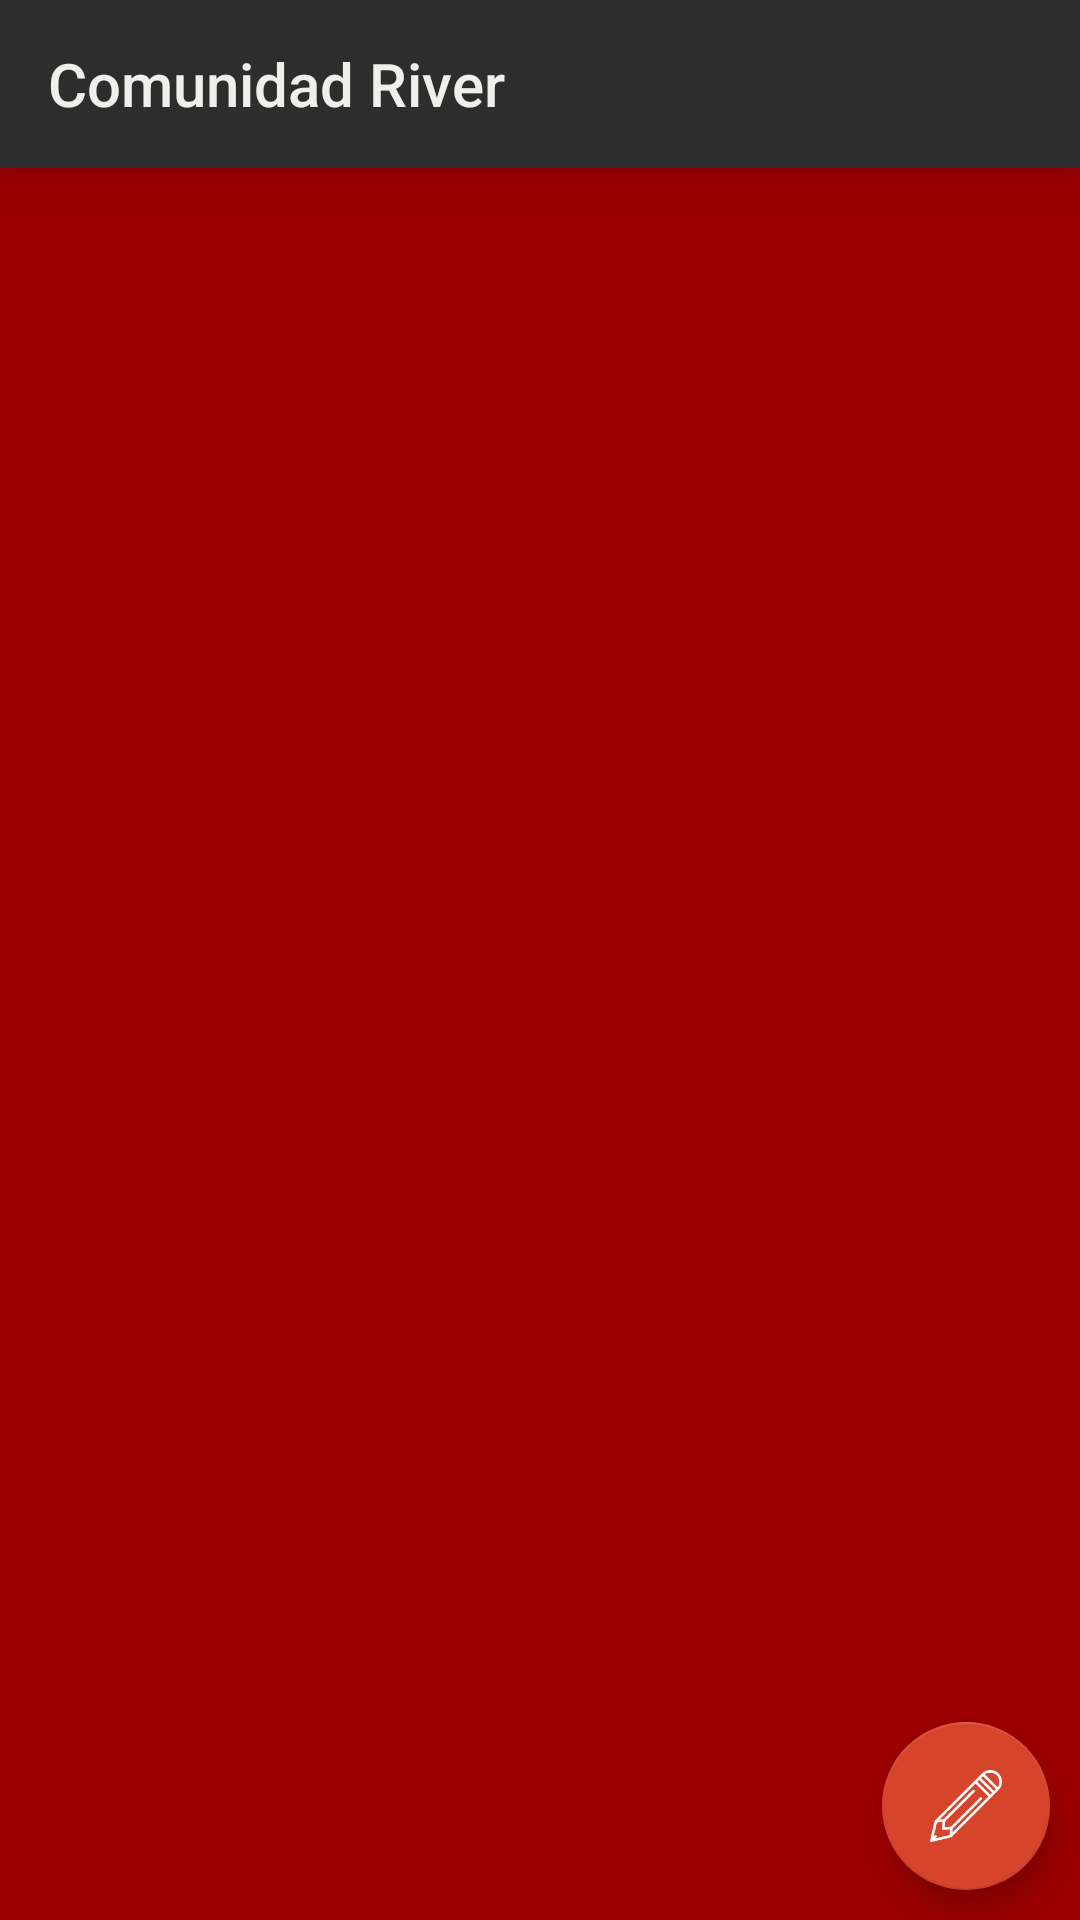

Icons on this 1080px x 1920px Android screen, each with the point to tap as [x,y]:
pencil: [966,1806]
